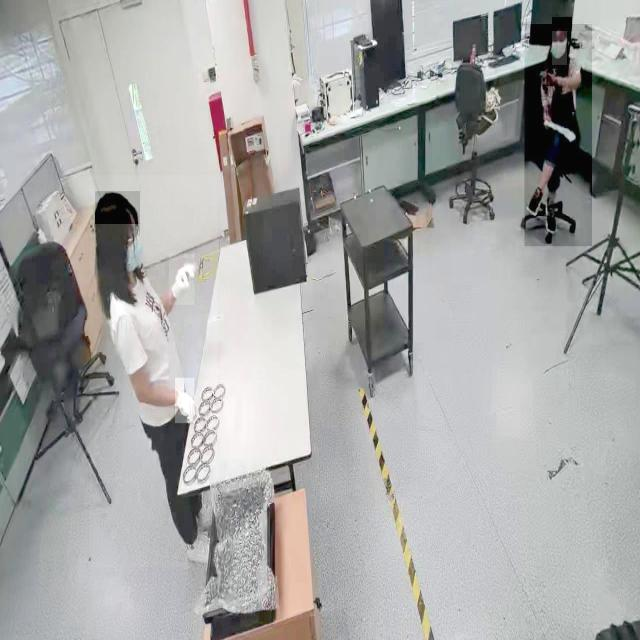face_mask: (120, 223, 149, 284), (551, 29, 567, 66)
hand_glove: (169, 253, 195, 305), (174, 378, 194, 424)
hand_noglove: (546, 70, 558, 87)
head_nohelmet: (94, 191, 140, 225), (552, 17, 572, 32)
person: (89, 175, 217, 568), (524, 24, 592, 247)
shoes: (541, 198, 559, 241), (525, 180, 545, 218)
